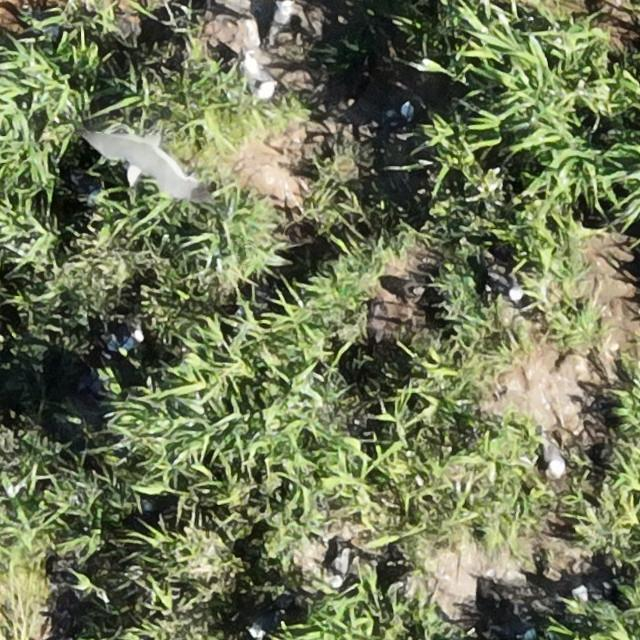F: (90, 127, 197, 195)
umineko: (244, 55, 275, 97), (382, 101, 418, 134), (496, 274, 526, 301), (267, 2, 291, 35), (544, 439, 566, 472), (249, 612, 280, 633)
